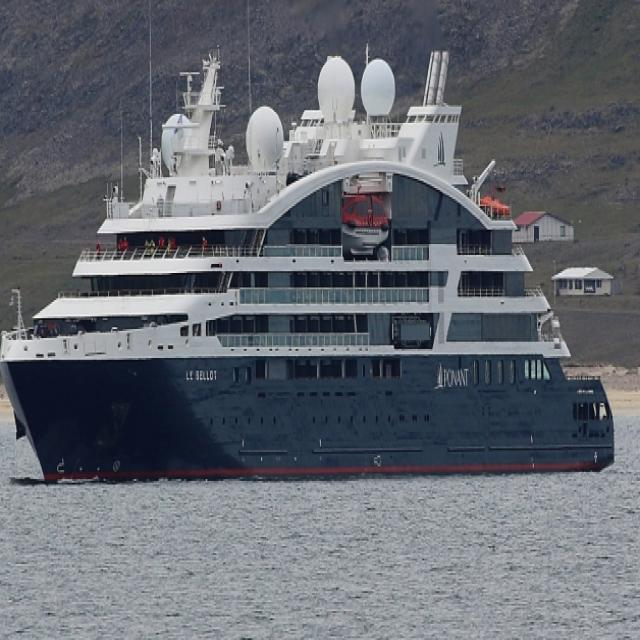cruises: (1, 1, 626, 498)
